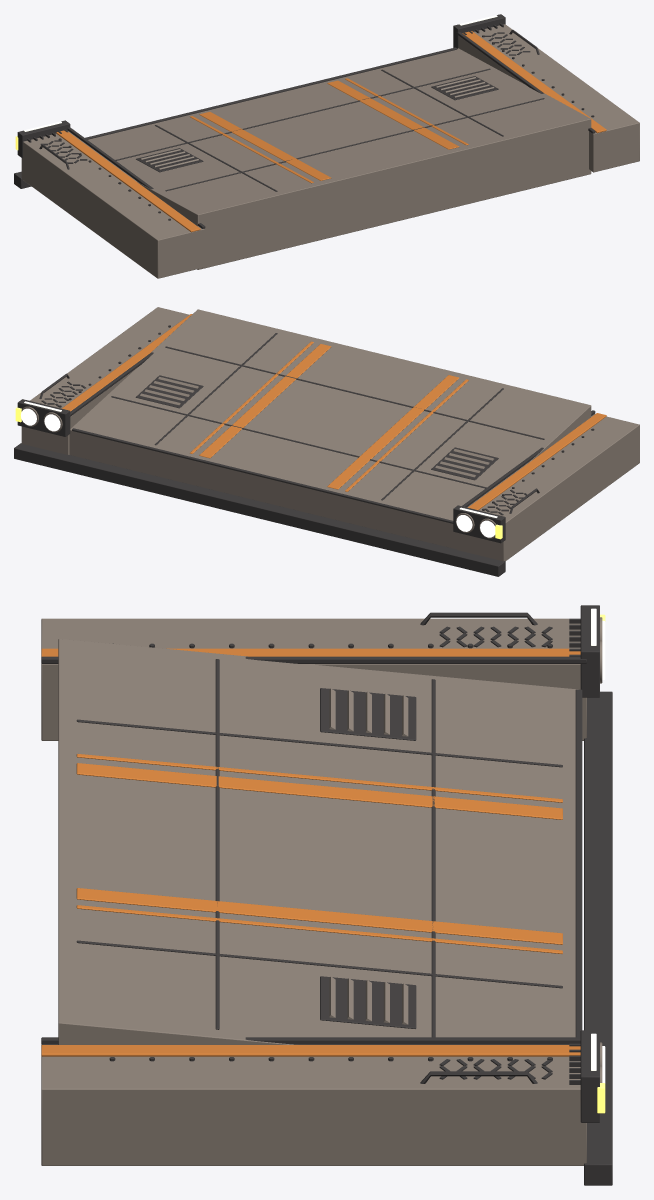
The model's file is hood.glb.
The picture shows the model from 3 angles, top to bottom: view 1: azimuth 30°, elevation 25°; view 2: azimuth 150°, elevation 25°; view 3: azimuth 270°, elevation 25°; orthographic projection. The views are drawn at different scales.
Parts seen in each view (by area): view 1: hood; view 2: hood; view 3: hood.
Part boxes in pixels (box(x1,y1,x2,y2)): hood: box(14, 14, 639, 278); hood: box(14, 307, 639, 576); hood: box(41, 605, 612, 1185).
Size of the model in its own units: 19.72 by 2.31 by 10.05.
